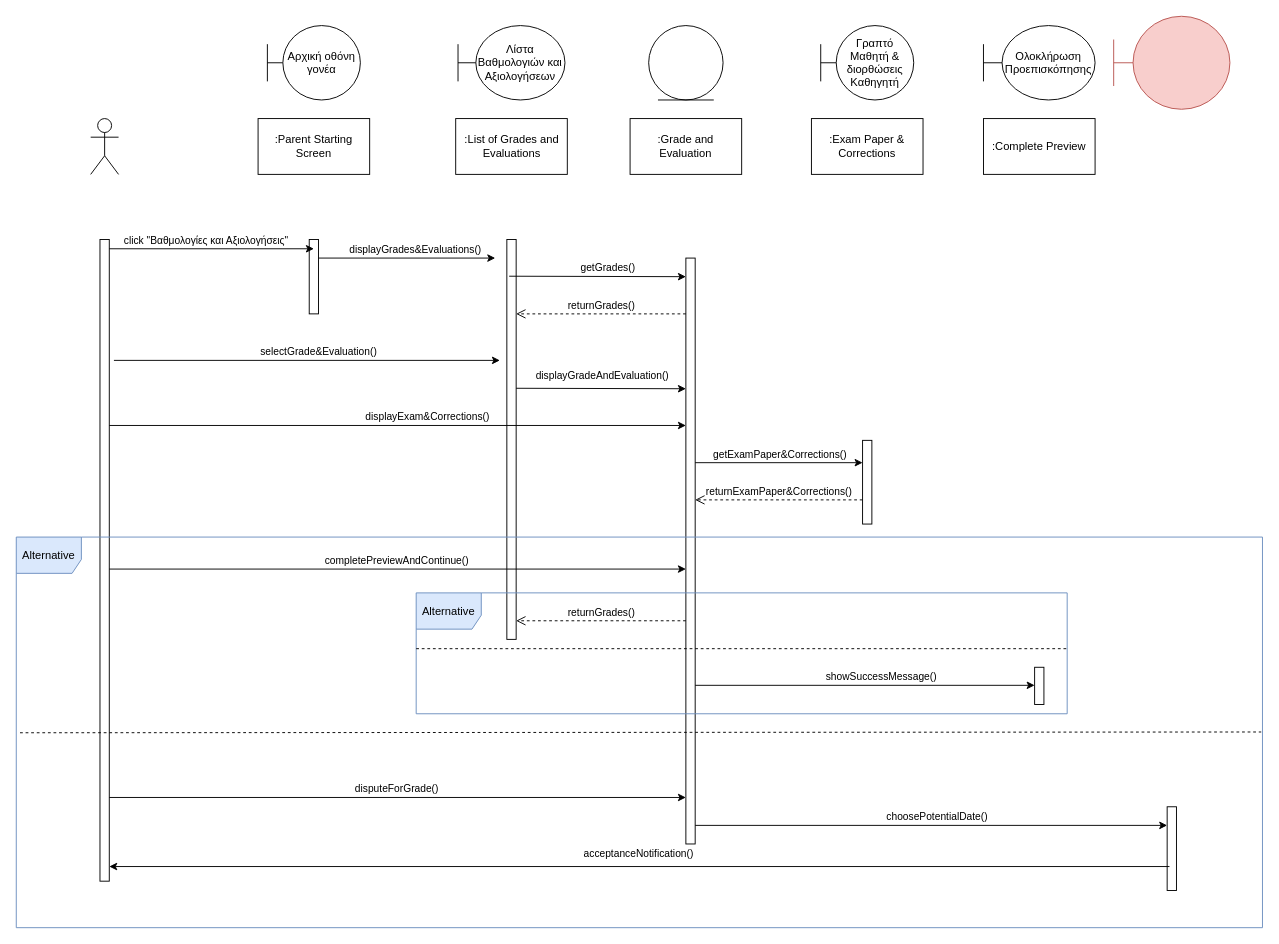
Some shapes in this 1279 by 944 pixel diagram are drawn without their labels. Here are the shapes that lost their labels. From the top down, the centre of each, then its label:
[685,62]: Βαθμολογία και Αξιολόγηση
[1171,62]: Δήλωση επιθυμίας για επικοινωνία
[104,146]: Γονέας
